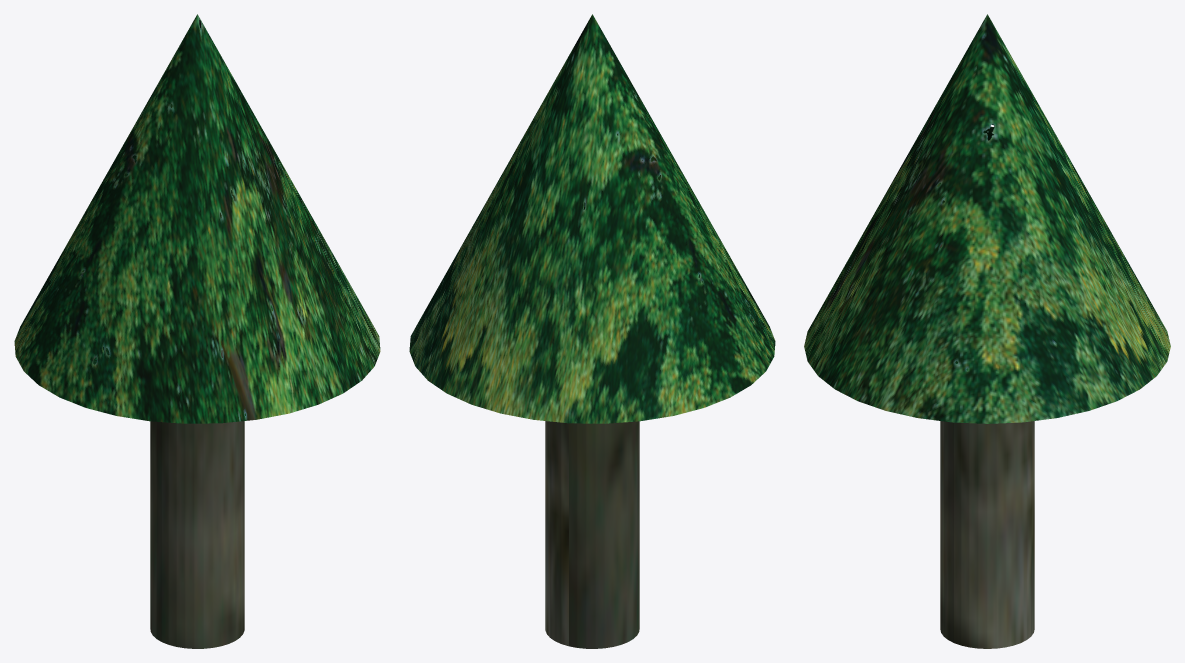
File: tree.fbx
3 renders of one model, left to right at view 1: azimuth 30°, elevation 25°; view 2: azimuth 150°, elevation 25°; view 3: azimuth 270°, elevation 25°, orthographic.
Parts seen in each view (by area): view 1: Cone, Cylinder; view 2: Cone, Cylinder; view 3: Cone, Cylinder.
Part boxes in pixels (x1=…): Cone: x1=14, y1=14, x2=380, y2=423; Cylinder: x1=150, y1=350, x2=244, y2=648; Cone: x1=409, y1=14, x2=775, y2=423; Cylinder: x1=545, y1=421, x2=639, y2=648; Cone: x1=804, y1=14, x2=1170, y2=423; Cylinder: x1=940, y1=244, x2=1034, y2=648.
Size of the model in its own units: 3.88 by 7.18 by 3.88.
